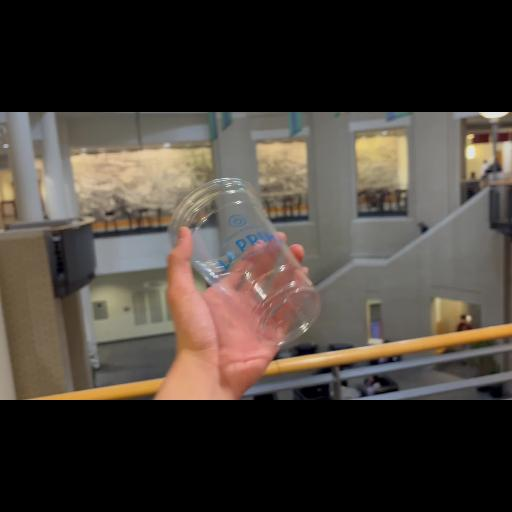lp_plastic_cup: (165, 176, 325, 348)
